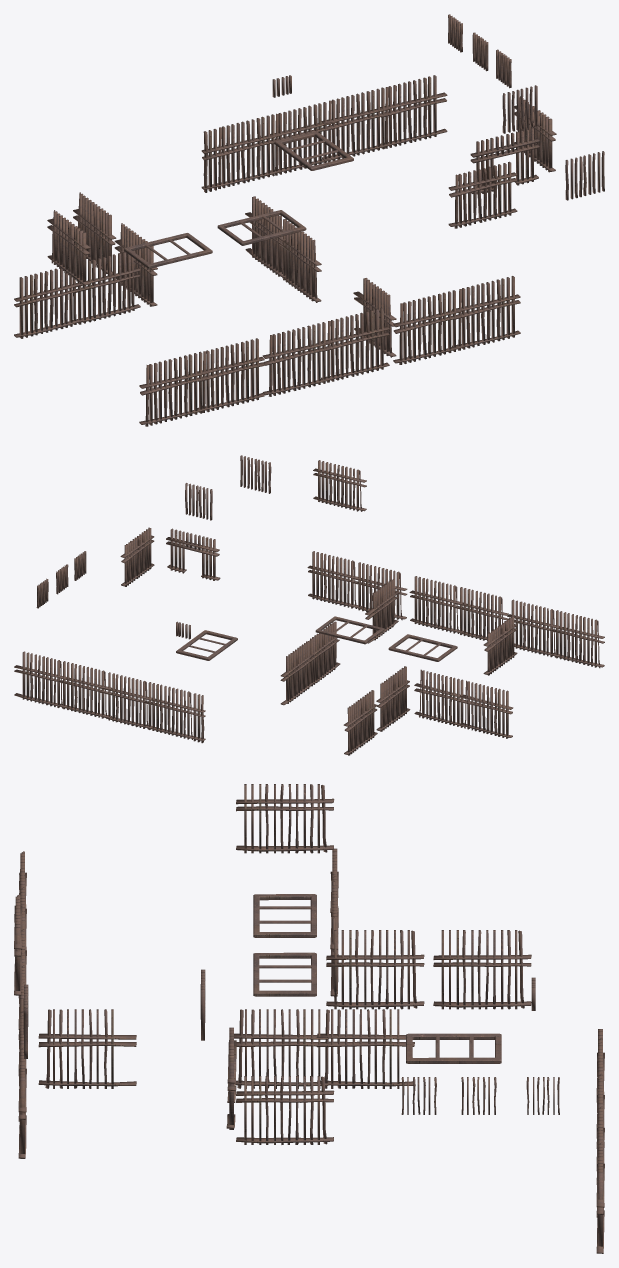
Rendered from SM_Prison_Metal00.fbx.
The picture shows the model from 3 angles, top to bottom: view 1: azimuth 30°, elevation 25°; view 2: azimuth 150°, elevation 25°; view 3: azimuth 270°, elevation 25°; orthographic projection. The views are drawn at different scales.
Parts seen in each view (by area): view 1: SM_Prison_Metal00; view 2: SM_Prison_Metal00; view 3: SM_Prison_Metal00.
Boxes of the visible parts, box(x1,y1,x2,y2) form: SM_Prison_Metal00: box(14, 14, 604, 426); SM_Prison_Metal00: box(14, 455, 604, 755); SM_Prison_Metal00: box(14, 784, 604, 1253).
Size of the model in its own units: 6158 by 1950 by 4595.
